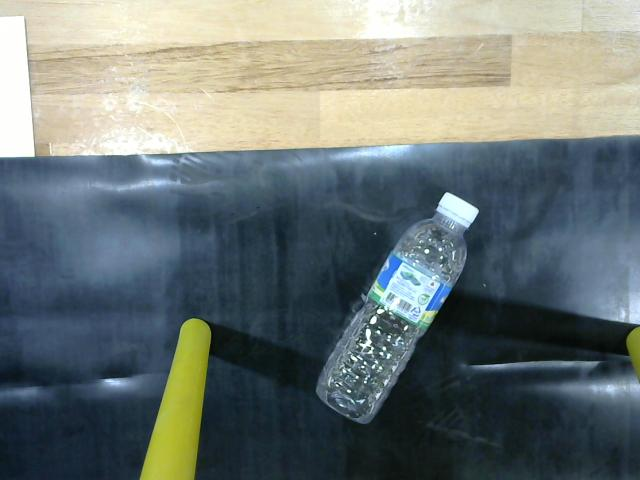bottle: (309, 190, 484, 431)
